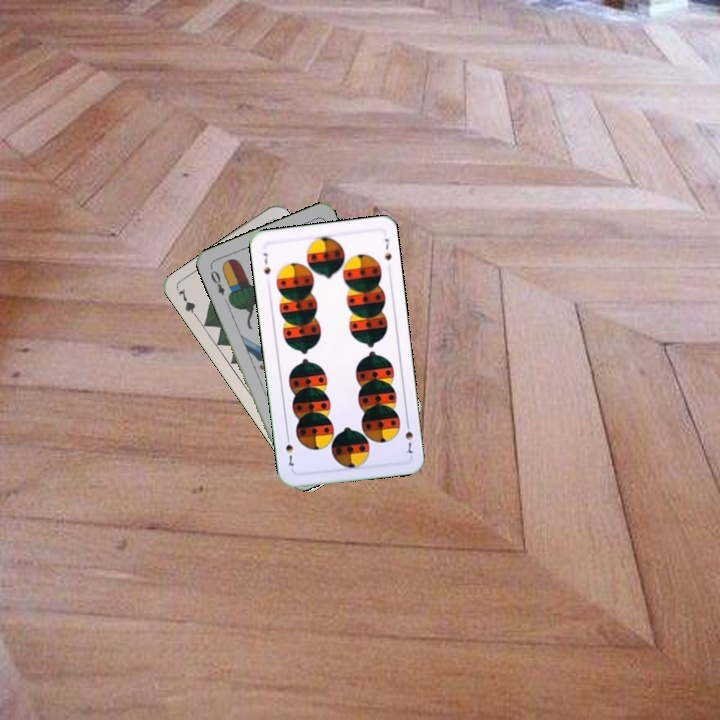EO: (206, 264, 227, 298)
G7: (174, 285, 202, 322)
S7: (401, 417, 416, 456), (259, 249, 273, 277)
